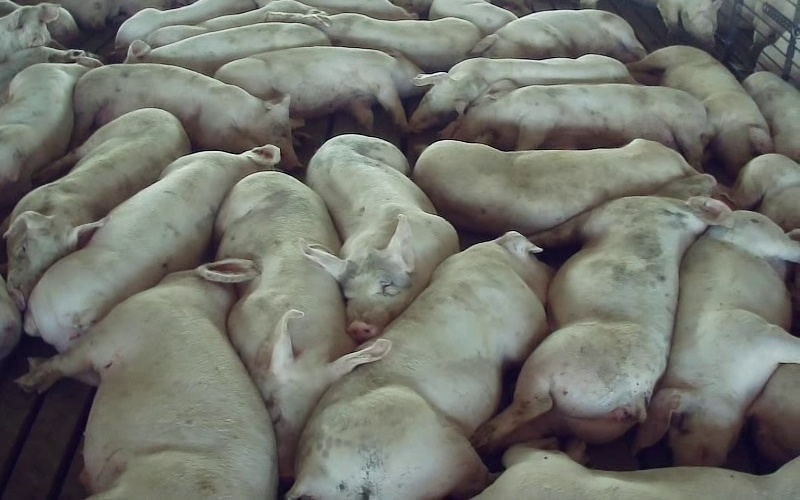pig: (473, 176, 728, 451), (290, 232, 552, 499), (19, 260, 276, 499), (215, 171, 387, 478), (24, 145, 279, 350), (637, 211, 799, 465), (4, 108, 189, 309), (303, 134, 458, 341), (413, 139, 699, 234), (73, 64, 298, 168), (441, 82, 709, 168), (628, 46, 772, 175), (409, 54, 634, 131), (215, 46, 421, 130), (0, 56, 100, 211), (125, 22, 330, 75), (325, 13, 480, 72), (471, 10, 645, 62)
